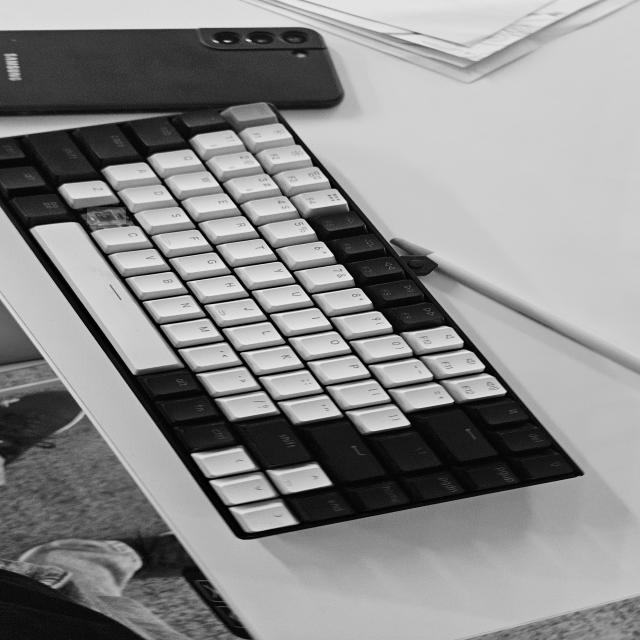C: (87, 208, 126, 225)
